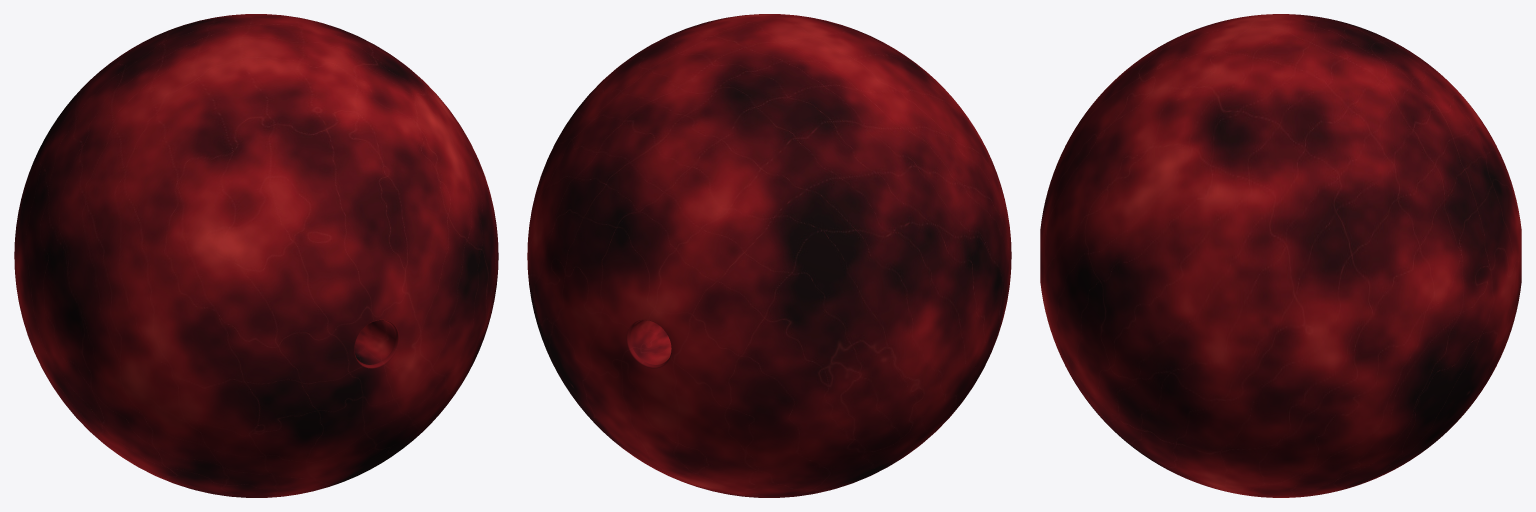
Rendered from garnet-10mm.glb.
3 renders of one model, left to right at view 1: azimuth 30°, elevation 25°; view 2: azimuth 150°, elevation 25°; view 3: azimuth 270°, elevation 25°, orthographic.
Visible parts, largest first — view 1: garnet.001; view 2: garnet.001; view 3: garnet.001.
Boxes of the visible parts, x1,y1,x2,y2 form: garnet.001: (14,14,498,497); garnet.001: (527,14,1011,497); garnet.001: (1040,14,1521,497).
Bounding box in the file's own units: 0.01 × 0.01 × 0.00994.
2 materials, 1 textured.
